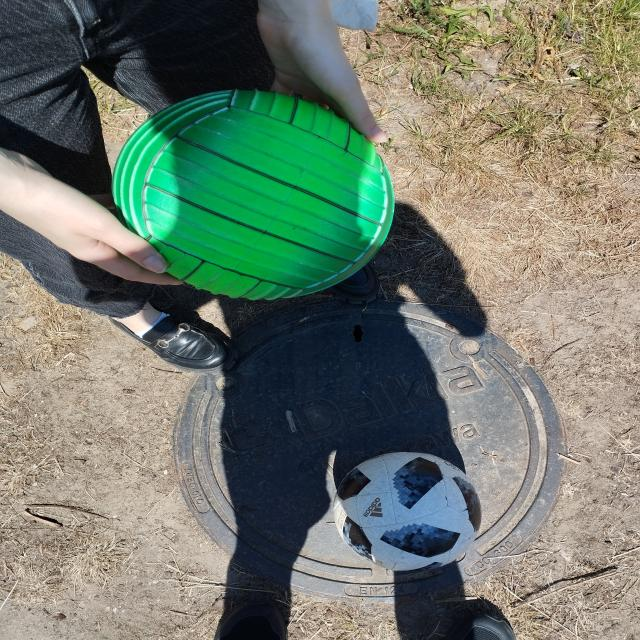nozna: (333, 451, 482, 571)
zielona: (111, 89, 395, 301)
